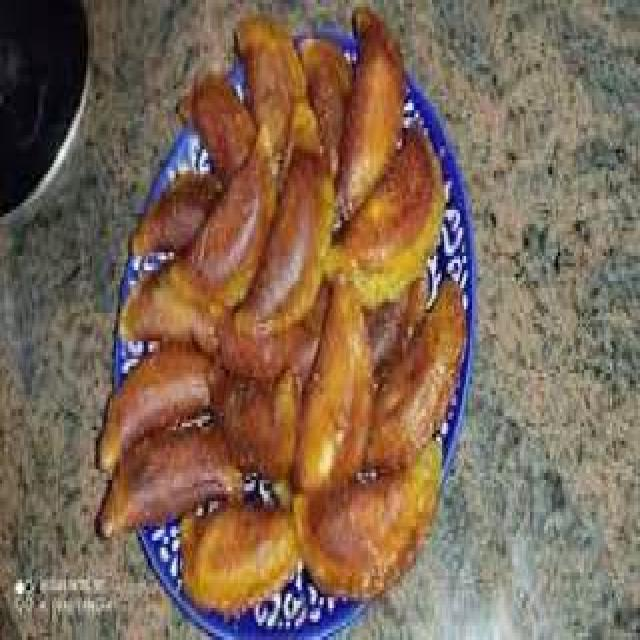ataif: (82, 1, 470, 609)
